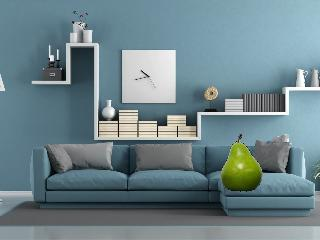pear: (217, 133, 268, 193)
